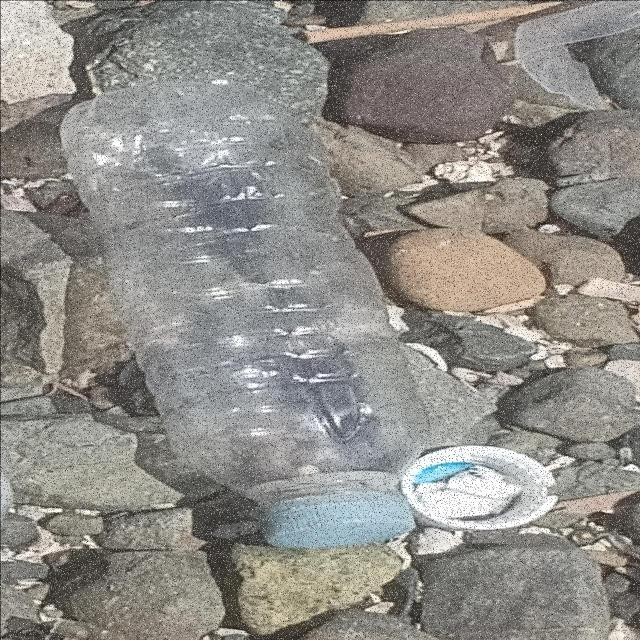plastic_waste: (56, 78, 438, 550), (397, 444, 561, 532)
